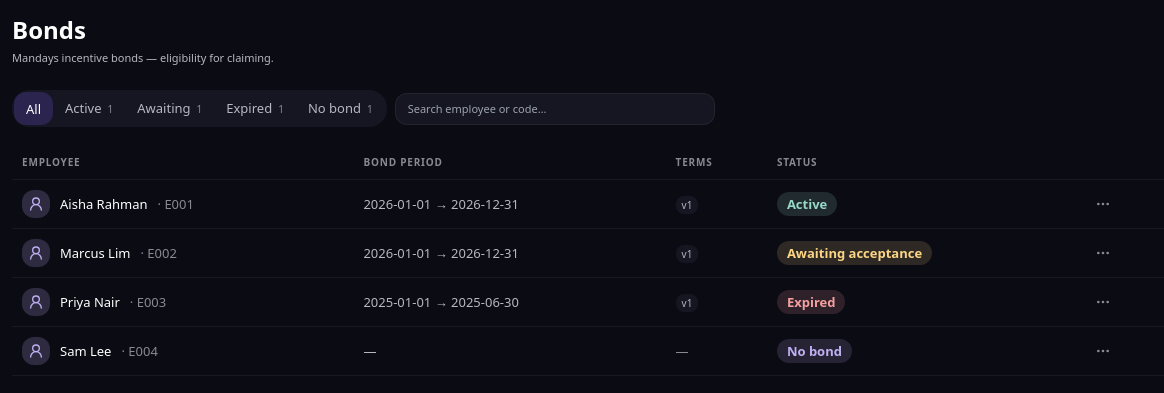
Test: BondsPage › filter pill filters the table to that status
Check: the text "Aisha Rahman" is shown, box top-left (60, 194), bottom-right (148, 214)
What coordinates should you click on to do the following:
click the button "No bond1"
I would click on:
 (340, 108)
Its box is top-left (296, 92), bottom-right (385, 125).
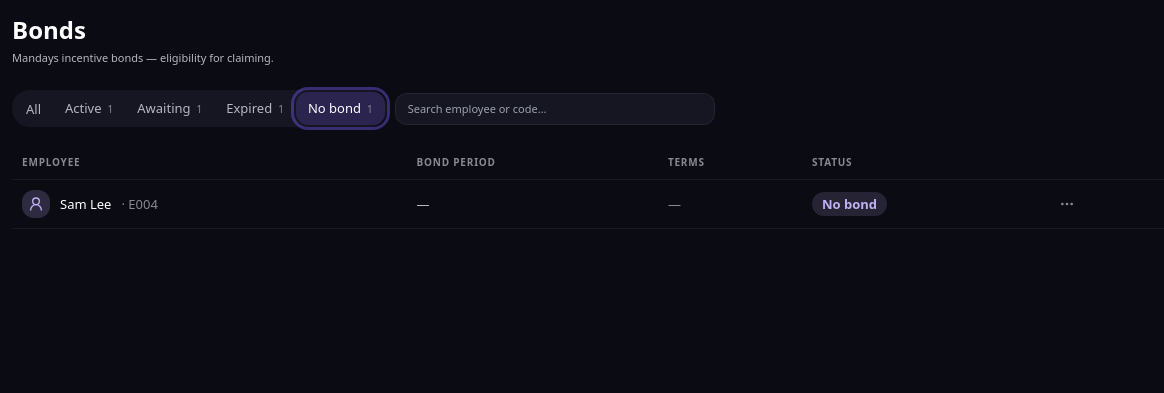
Check: the text "Sam Lee" is shown, box top-left (60, 194), bottom-right (112, 214)
Check: the text "Aisha Rahman" is gone
